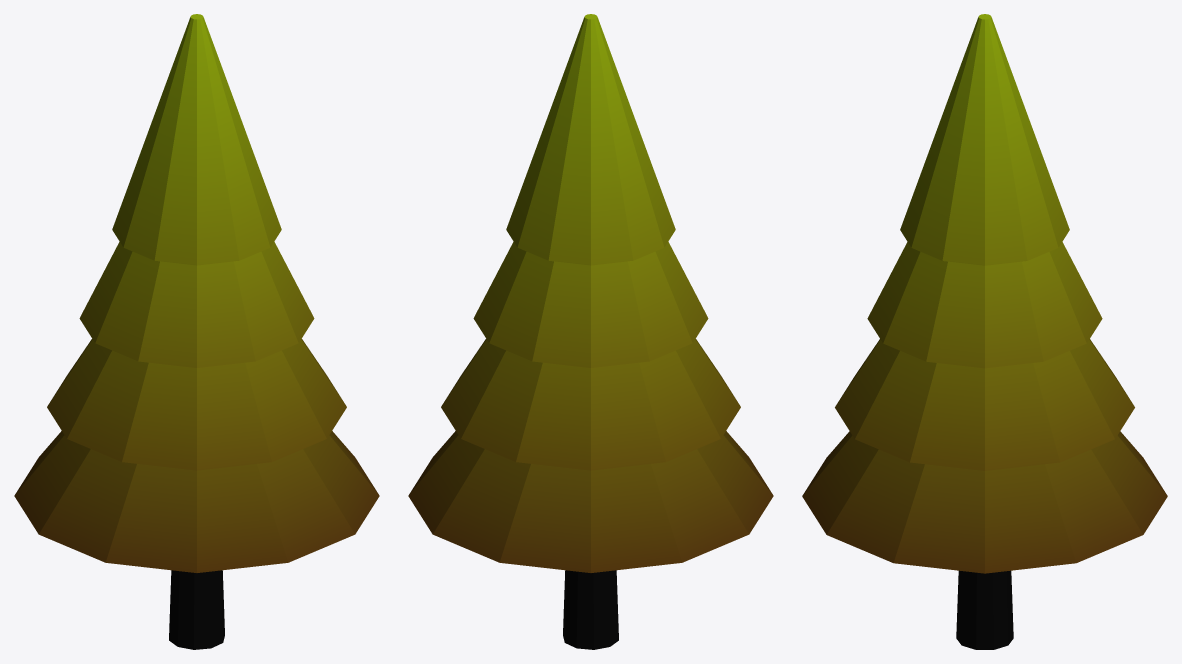
The model's file is tree_conifer.glb.
3 views of the same model, side by side, from view 1: azimuth 30°, elevation 25°; view 2: azimuth 150°, elevation 25°; view 3: azimuth 270°, elevation 25° (orthographic).
Parts seen in each view (by area): view 1: leaves_tier_00, leaves_tier_01, leaves_tier_03, leaves_tier_02, tree_trunk; view 2: leaves_tier_00, leaves_tier_01, leaves_tier_03, leaves_tier_02, tree_trunk; view 3: leaves_tier_00, leaves_tier_01, leaves_tier_03, leaves_tier_02, tree_trunk.
Part boxes in pixels (box(x1,y1,x2,y2)): leaves_tier_00: box(14, 431, 379, 572); leaves_tier_01: box(47, 339, 346, 470); leaves_tier_03: box(112, 14, 281, 265); leaves_tier_02: box(79, 242, 314, 367); tree_trunk: box(169, 570, 224, 649); leaves_tier_00: box(408, 431, 773, 572); leaves_tier_01: box(441, 339, 740, 470); leaves_tier_03: box(506, 14, 675, 265); leaves_tier_02: box(473, 242, 708, 367); tree_trunk: box(563, 570, 618, 649); leaves_tier_00: box(802, 431, 1167, 573); leaves_tier_01: box(835, 339, 1134, 470); leaves_tier_03: box(900, 14, 1069, 265); leaves_tier_02: box(867, 242, 1102, 368); tree_trunk: box(956, 570, 1013, 649).
Bounding box in the file's own units: 2.8 × 5.25 × 2.8.
